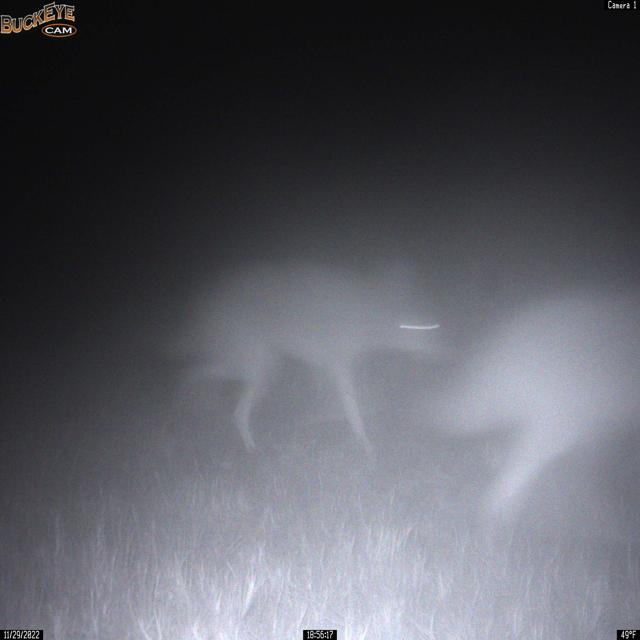coyote: (158, 254, 454, 467)
